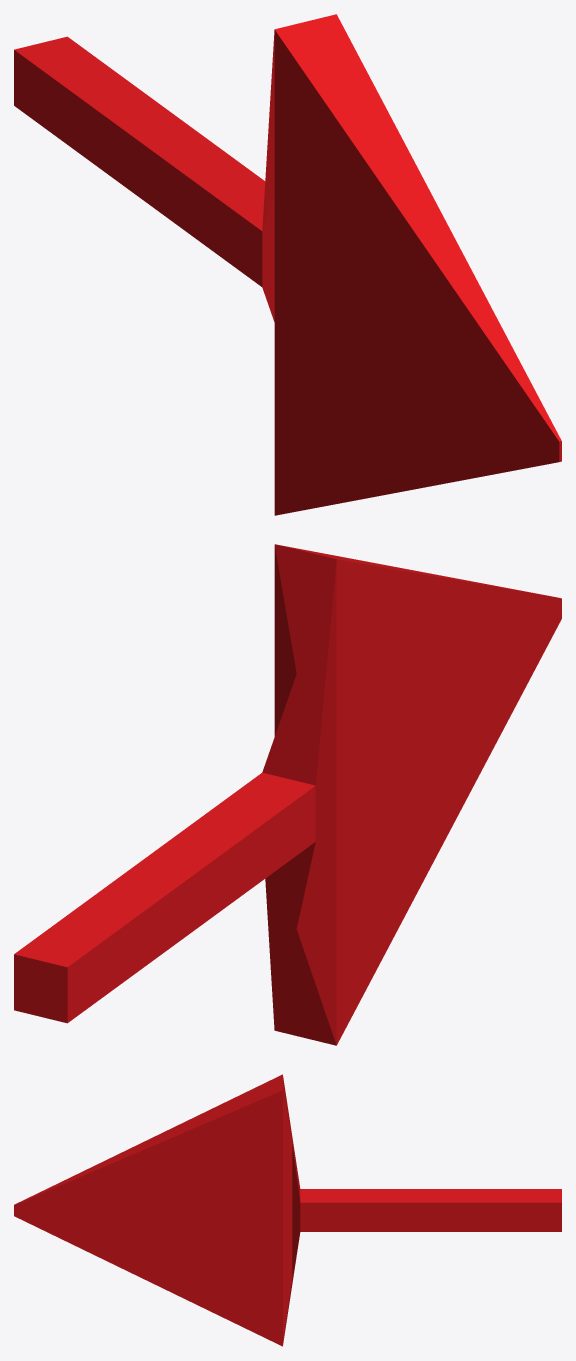
The model's file is arrrrrorw 1.fbx.
3 renders of one model, top to bottom at view 1: azimuth 30°, elevation 25°; view 2: azimuth 150°, elevation 25°; view 3: azimuth 270°, elevation 25°, orthographic. The views are drawn at different scales.
Parts seen in each view (by area): view 1: Cube; view 2: Cube; view 3: Cube.
Part boxes in pixels (x1,y1,x2,y2): Cube: (14,14,561,515); Cube: (14,544,561,1045); Cube: (14,1074,561,1346).
Size of the model in its own units: 52.9 by 396 by 766.
